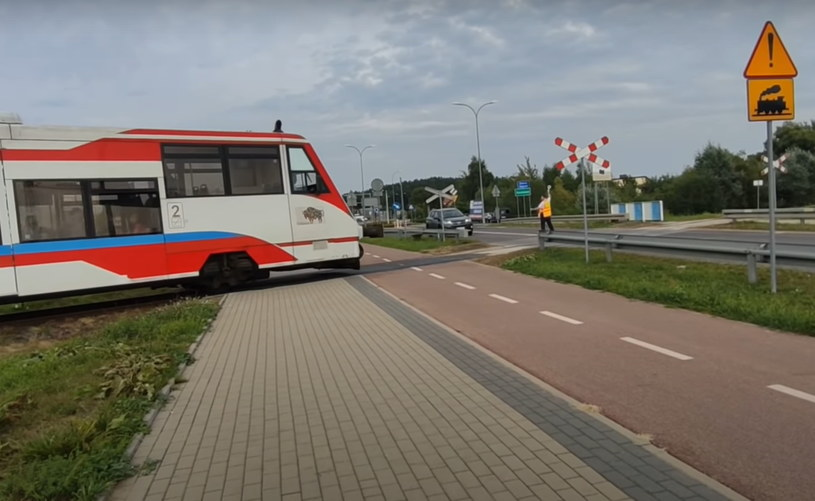t10: (743, 20, 800, 124)
